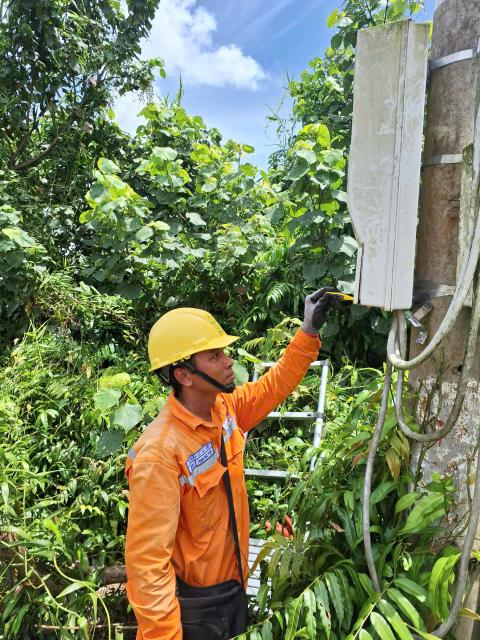gloves: (298, 287, 337, 333)
helmet: (131, 291, 232, 376)
